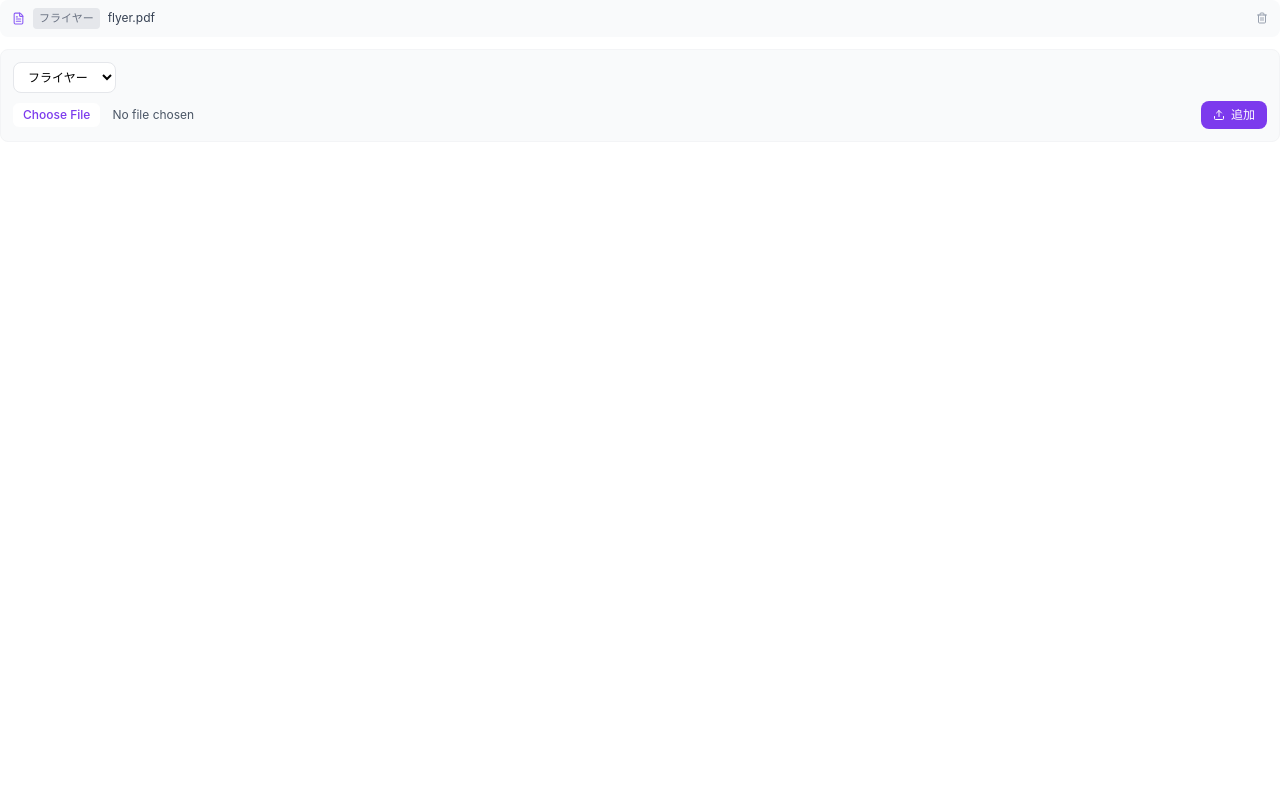
Scenario: FileAttachmentSection（削除） › 削除を確定すると一覧から消える
Expected: the link "flyer.pdf" is shown, [108,10,155,25]
Click the button titled "削除" at {"x": 1262, "y": 18}, box [1256,12,1268,24]
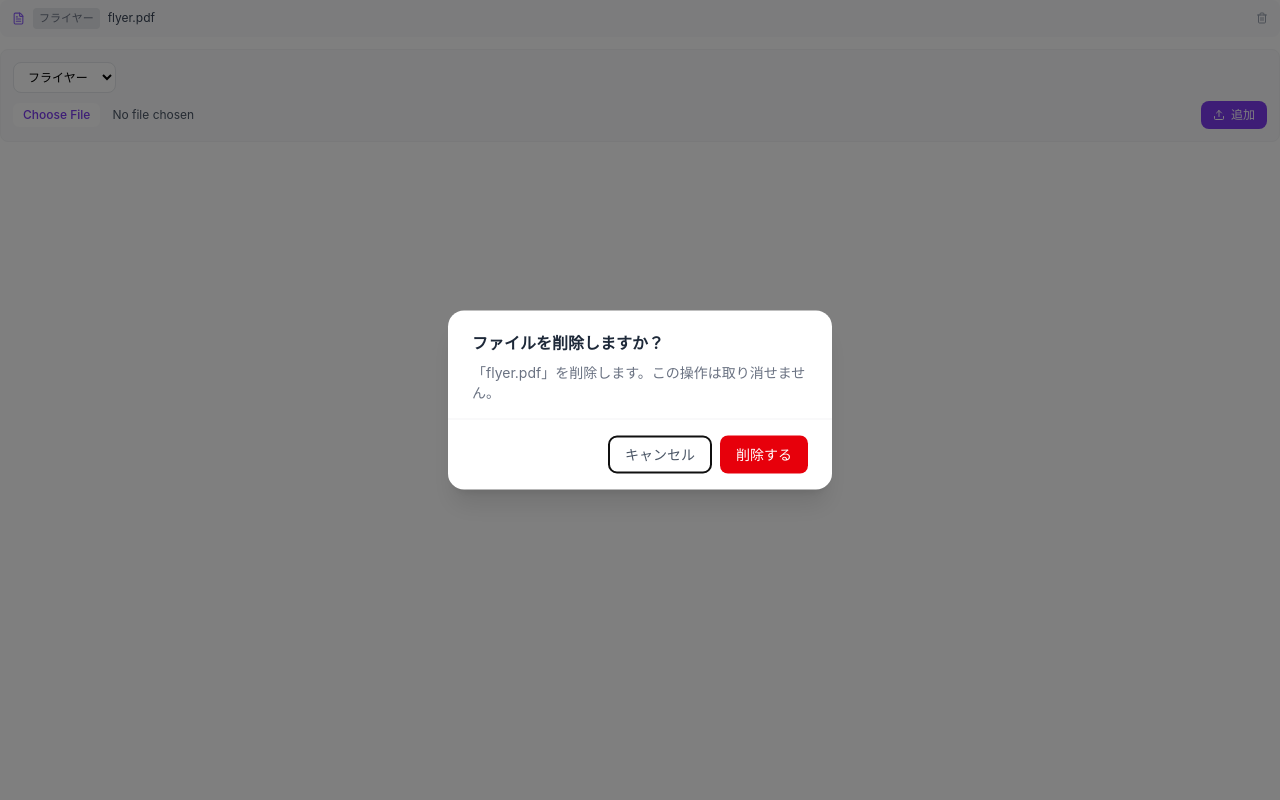
Click the button "削除する" at {"x": 764, "y": 454}, box [720,436,808,474]
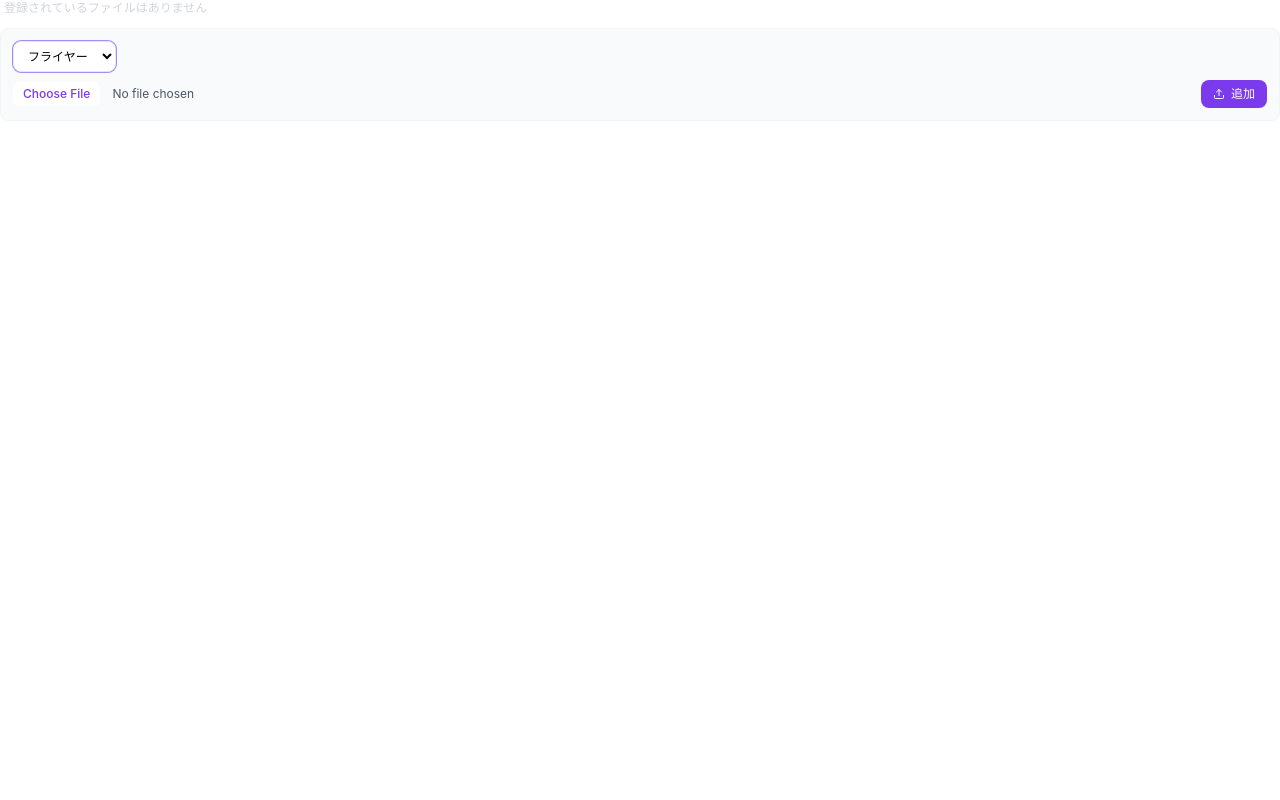
Expected: the link "flyer.pdf" is gone
